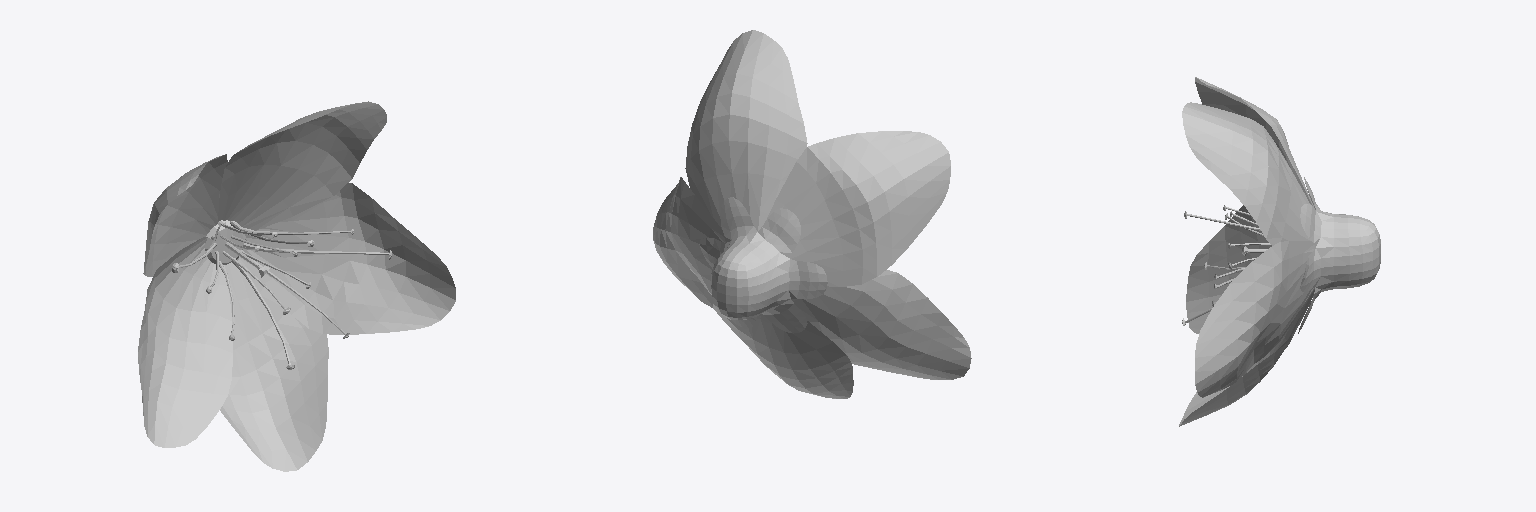
The model's file is flower_join.obj.
The picture shows the model from 3 angles: view 1: azimuth 30°, elevation 25°; view 2: azimuth 150°, elevation 25°; view 3: azimuth 270°, elevation 25°; orthographic projection.
Visible parts, largest first — view 1: fleur_Cube.016; view 2: fleur_Cube.016; view 3: fleur_Cube.016.
Part boxes in pixels (x1,y1,x2,y2): fleur_Cube.016: (138,101,455,471); fleur_Cube.016: (653,30,971,398); fleur_Cube.016: (1179,77,1380,426).
Size of the model in its own units: 7.77 by 8.23 by 4.32.